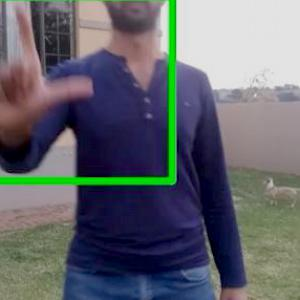land_hand: (0, 0, 95, 138)
